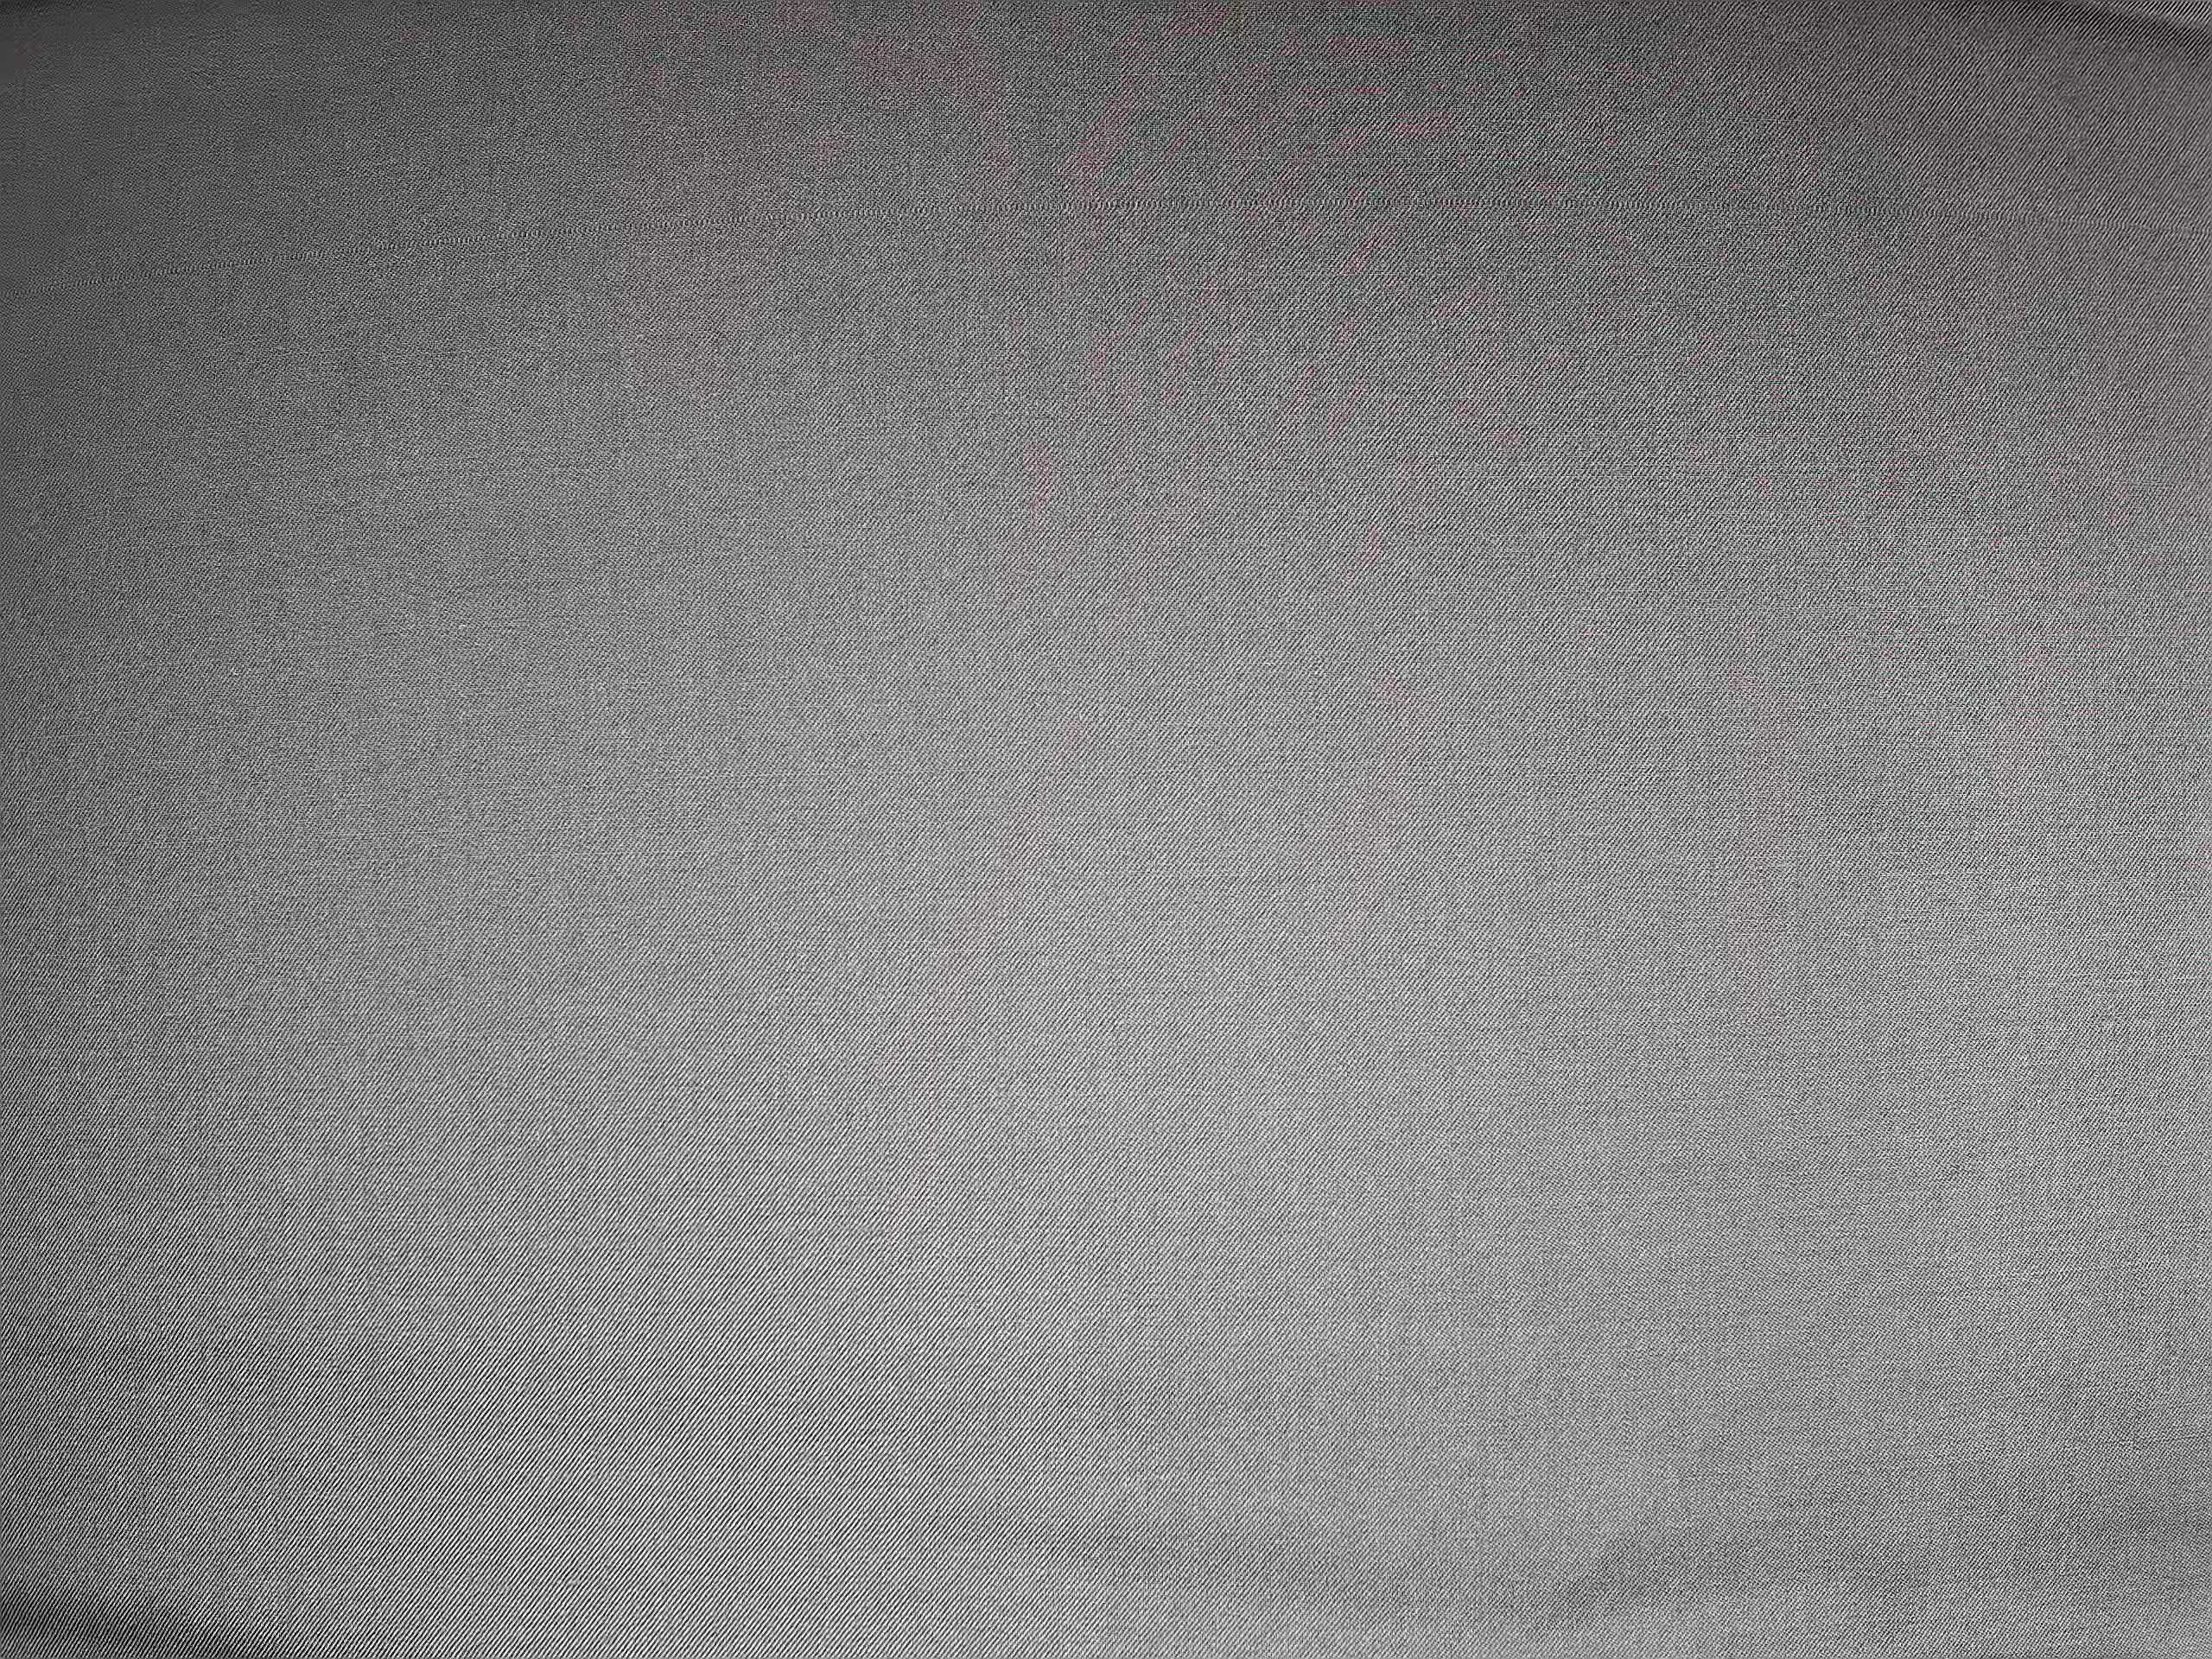others: (0, 183, 2207, 315)
